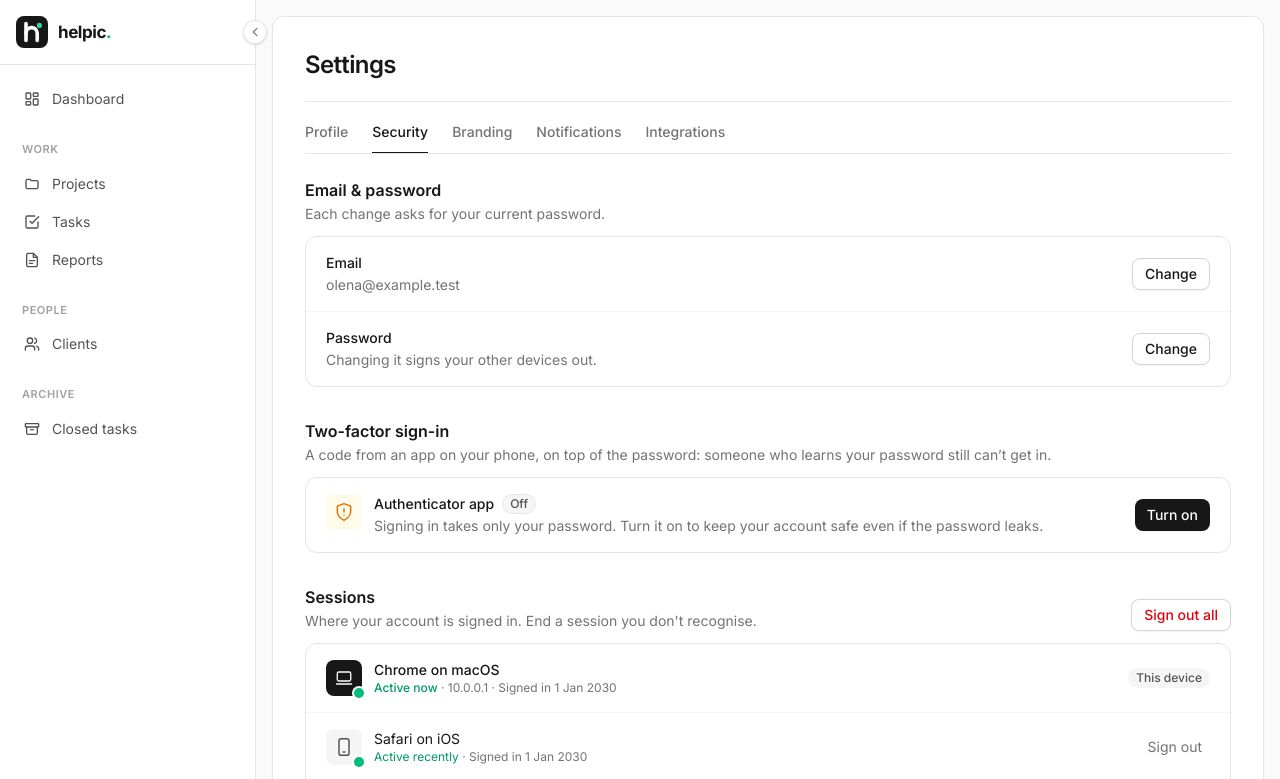
Test case: Settings › Security › lists the devices, this one first, and signs one or all of the others out
Click the button "Sign out". click: (1175, 747)
box: [1140,733,1210,761]
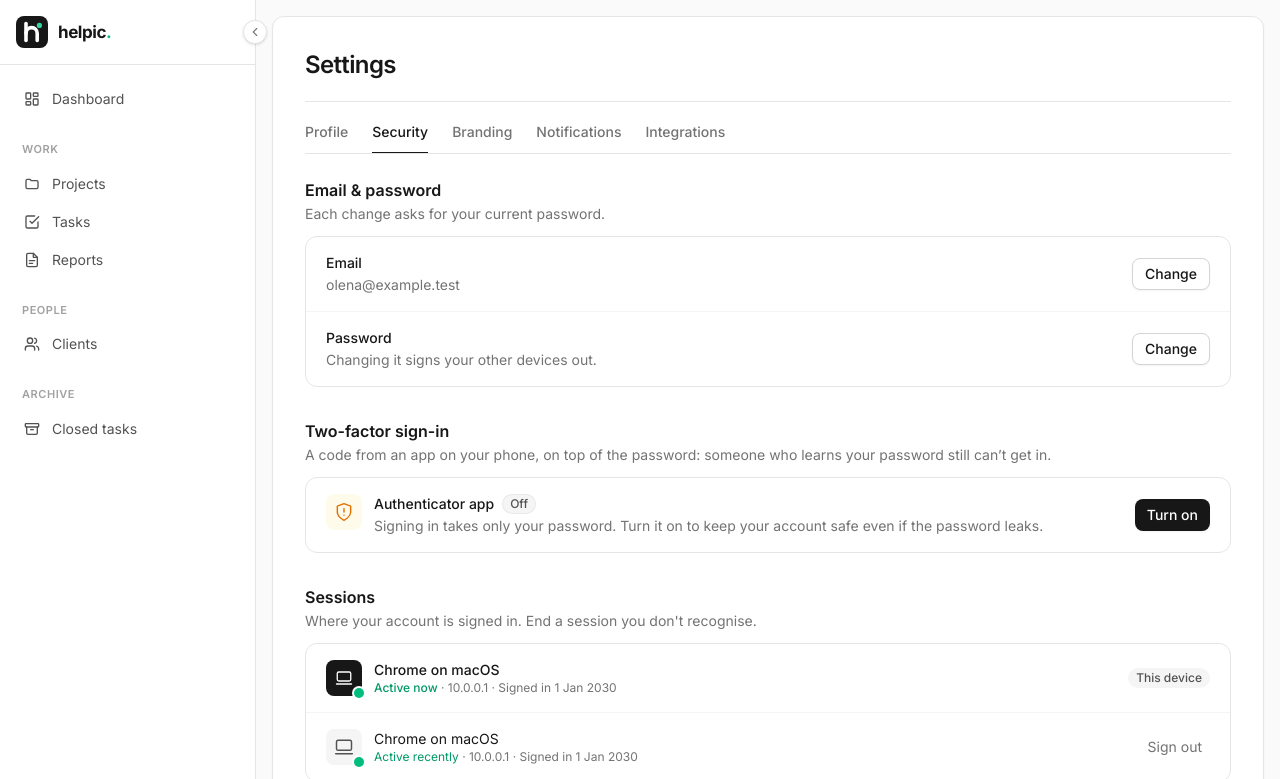
Click the button "Profile". click: (327, 138)
box: [305,122,348,154]
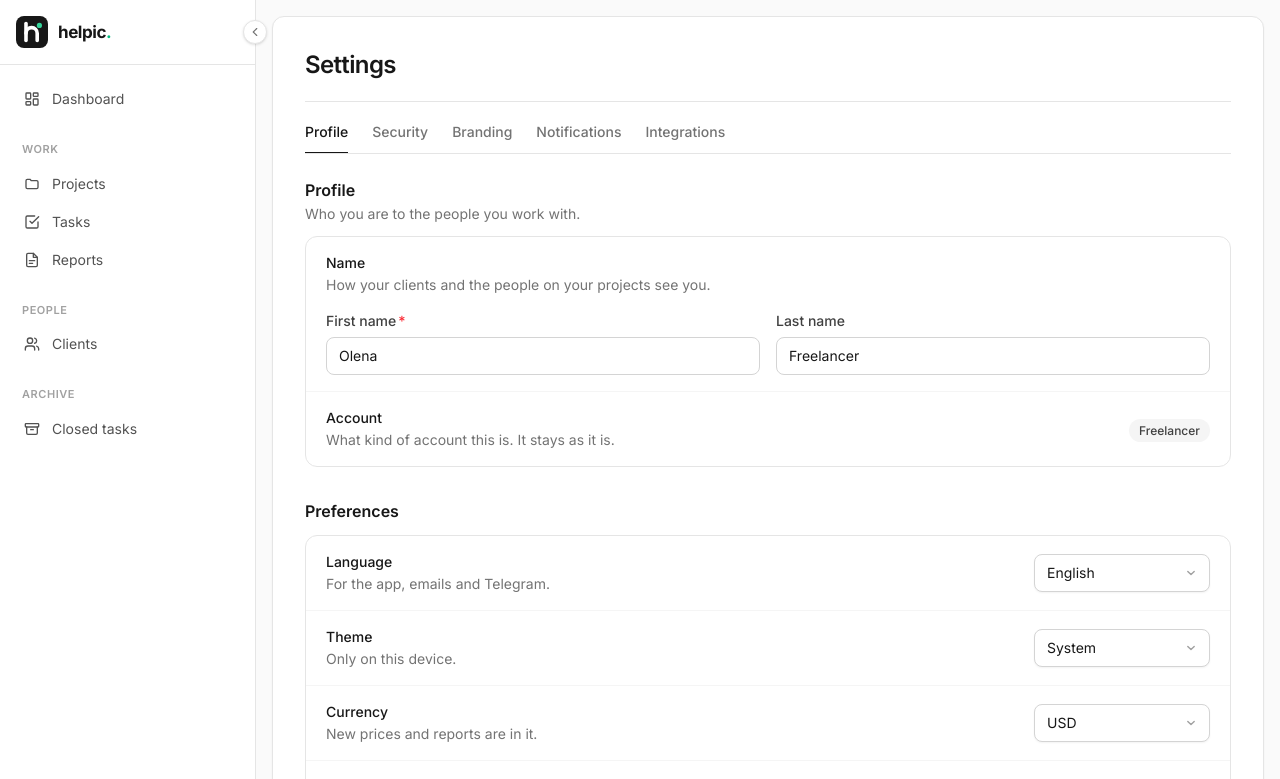
Click the button "Security". click: (400, 138)
box: [372,122,428,154]
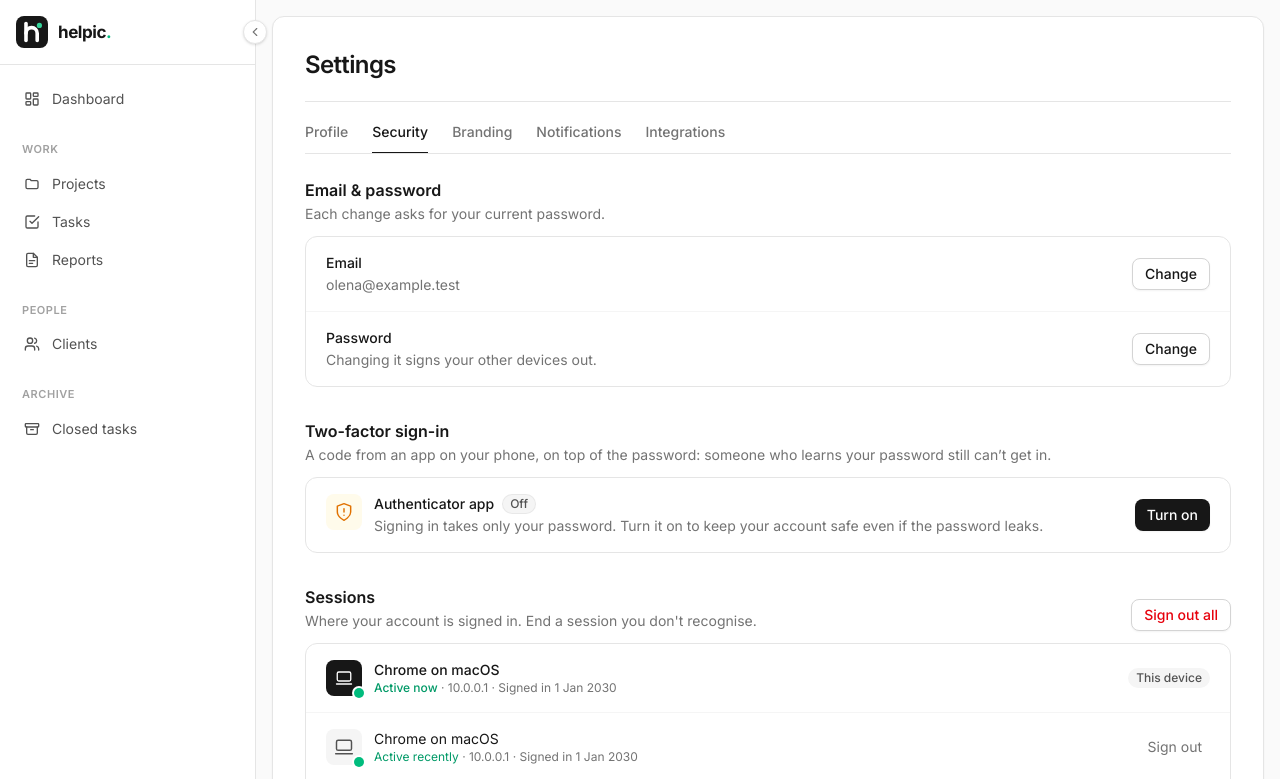
Click the button "Sign out all". click: (1181, 615)
box: [1131,599,1231,631]
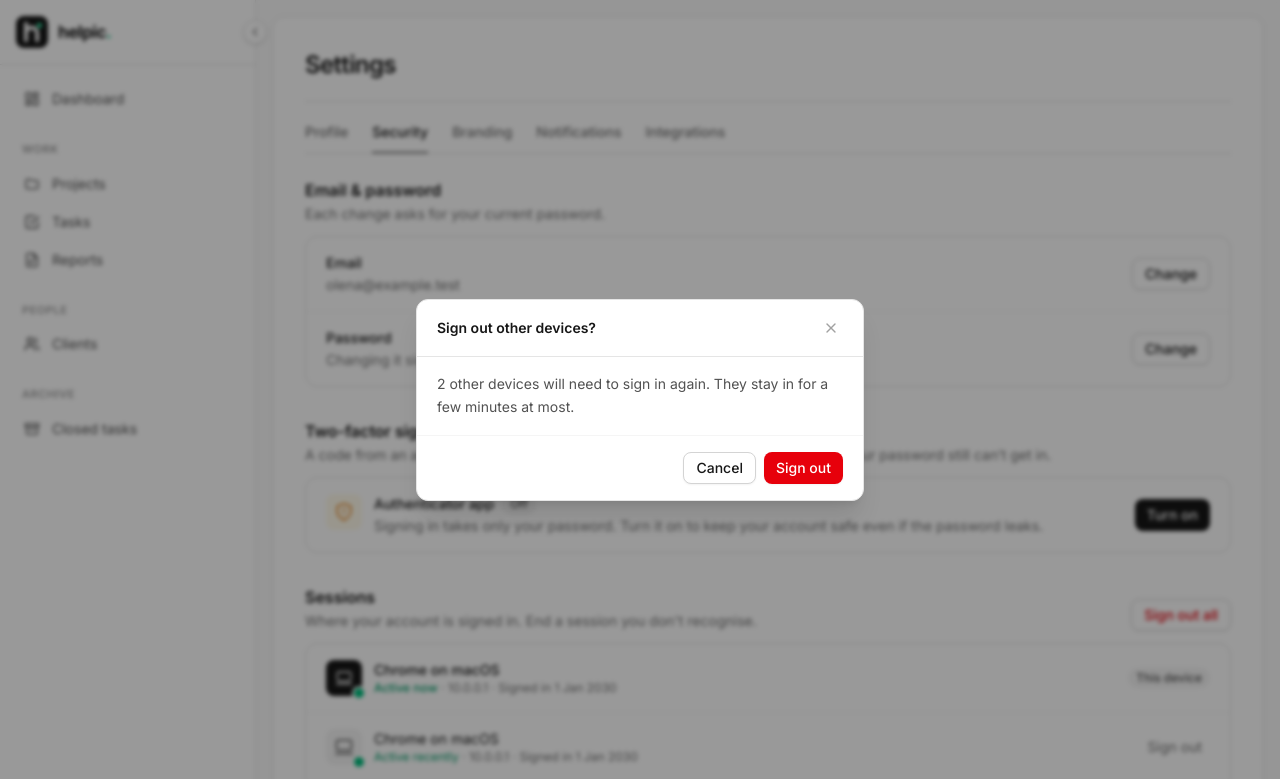
Click the button "Sign out". click: (804, 468)
box: [764,452,843,484]
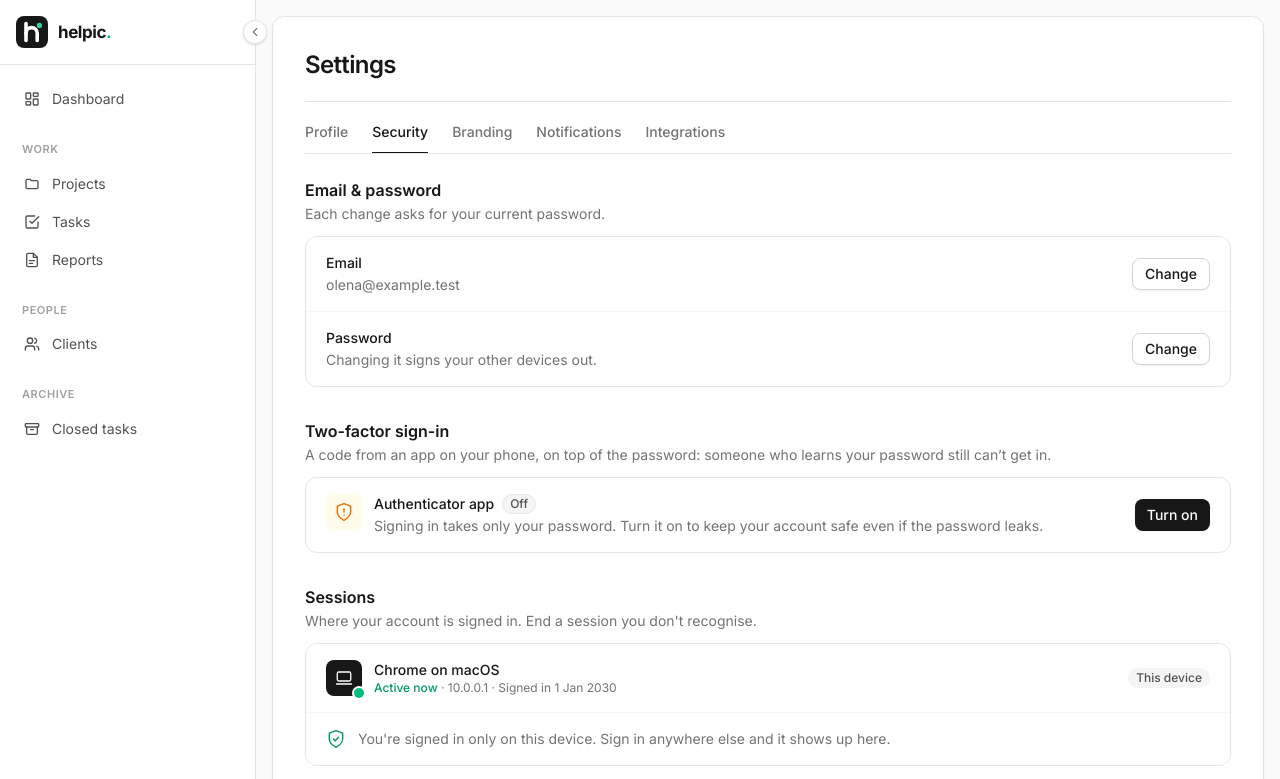
Check: the text "You're signed in only on this device." is shown, box [358,730,891,747]
